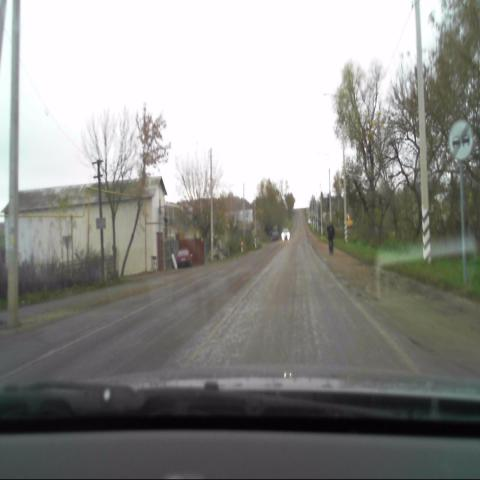3_21: (448, 118, 472, 161)
